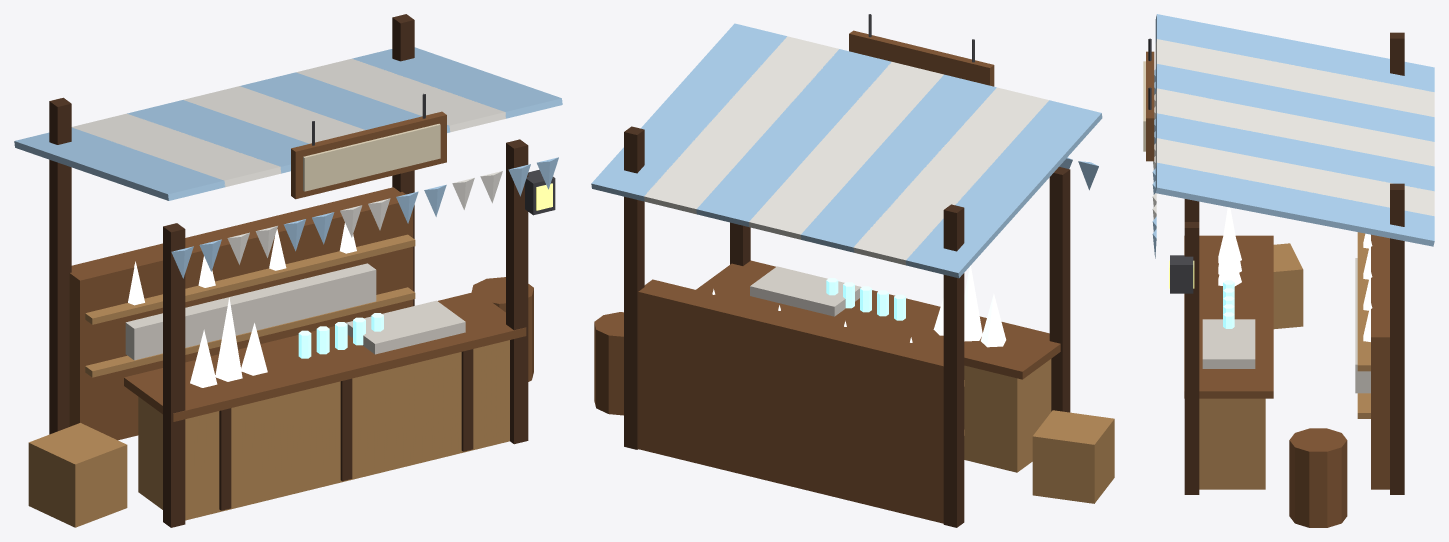
Rendered from Stand_Eis.fbx.
The picture shows the model from 3 angles, left to right: view 1: azimuth 30°, elevation 25°; view 2: azimuth 150°, elevation 25°; view 3: azimuth 270°, elevation 25°; orthographic projection. The views are drawn at different scales.
Visible parts, largest first — view 1: Stand_Eis; view 2: Stand_Eis; view 3: Stand_Eis.
Part boxes in pixels (x1,y1,x2,y2): Stand_Eis: (14, 14, 562, 527); Stand_Eis: (591, 14, 1114, 527); Stand_Eis: (1143, 14, 1434, 527).
Bounding box in the file's own units: 5.12 × 3.7 × 2.77.
